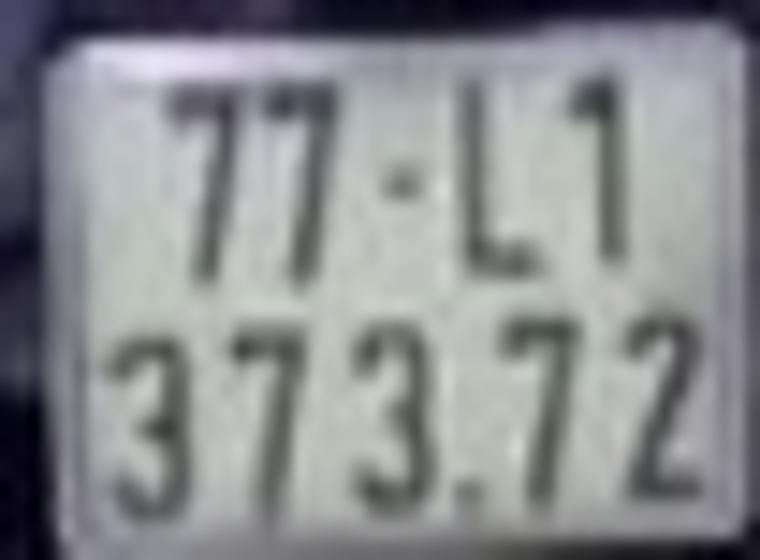-: (376, 177, 428, 210)
.: (447, 470, 494, 515)
1: (568, 72, 639, 281)
2: (626, 317, 711, 507)
3: (342, 321, 445, 524), (101, 337, 198, 527)
7: (250, 84, 345, 289), (224, 320, 311, 528), (161, 80, 239, 297), (502, 316, 584, 520)
L: (442, 84, 552, 280)
